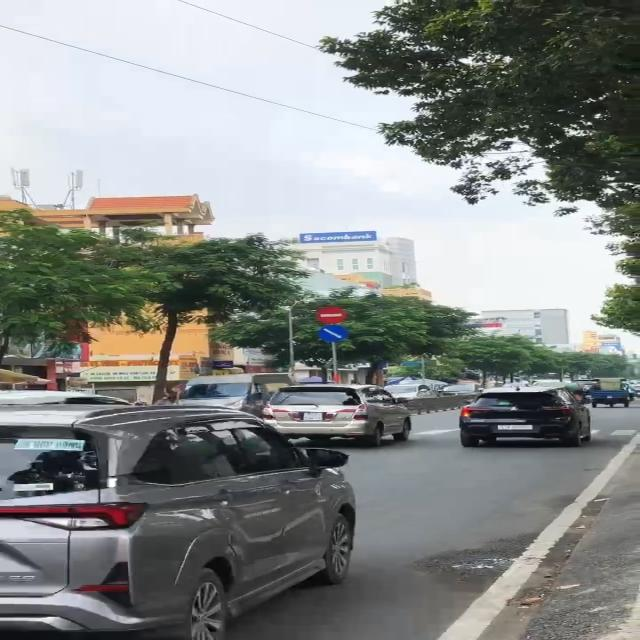Bien bao cam di nguoc chieu: (312, 306, 349, 325)
Bien bao huong phai di vong chuong ngai vat: (316, 326, 352, 346)
